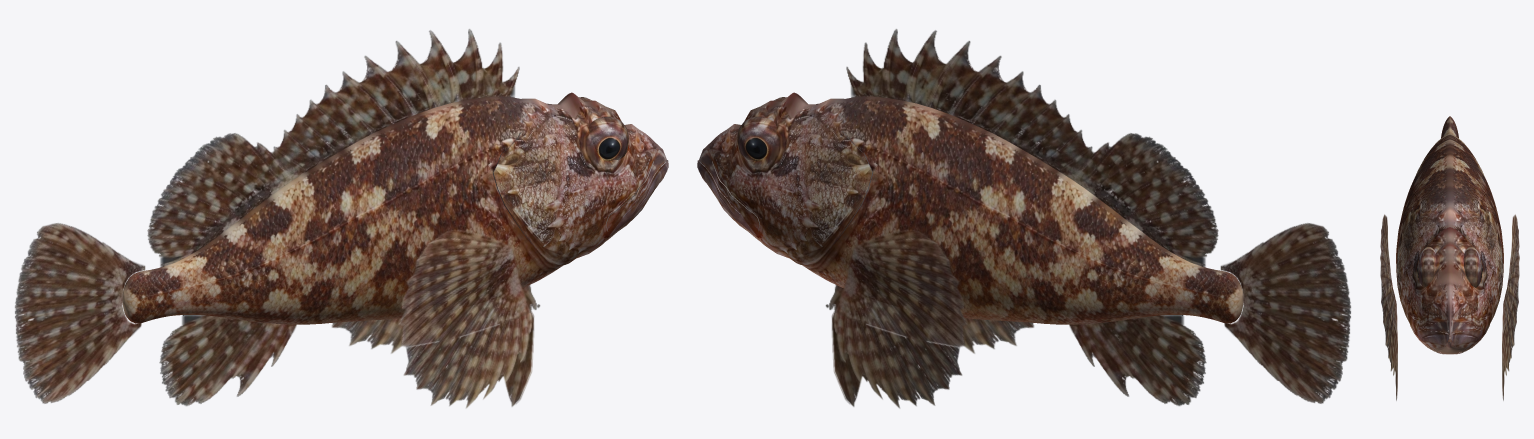
The model's file is kasago.glb.
3 views of the same model, side by side, from view 1: azimuth 30°, elevation 25°; view 2: azimuth 150°, elevation 25°; view 3: azimuth 270°, elevation 25° (orthographic). The views are drawn at different scales.
Visible parts, largest first — view 1: kasago; view 2: kasago; view 3: kasago.
Part boxes in pixels (box(x1,y1,x2,y2)): kasago: box(15, 29, 668, 408); kasago: box(697, 29, 1350, 408); kasago: box(1380, 116, 1519, 400).
Bounding box in the file's own units: 0.2206 × 0.1176 × 0.0517.
Materials: 1 (1 with a texture image).
